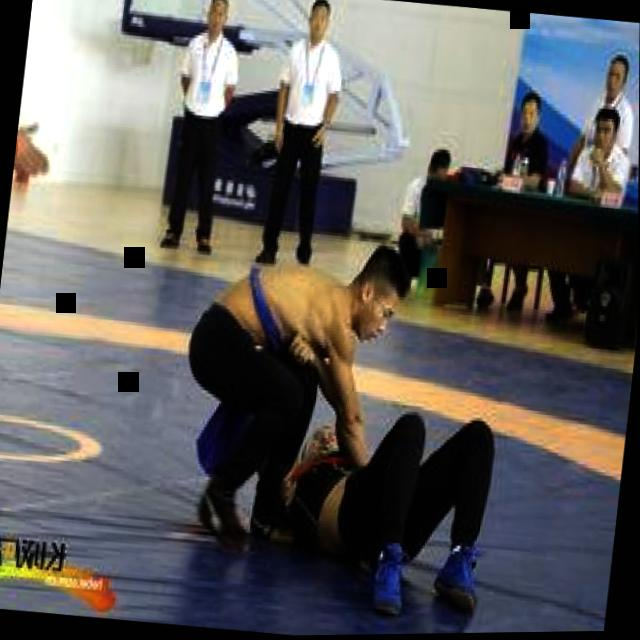Fall-Detected: (259, 379, 529, 618)
